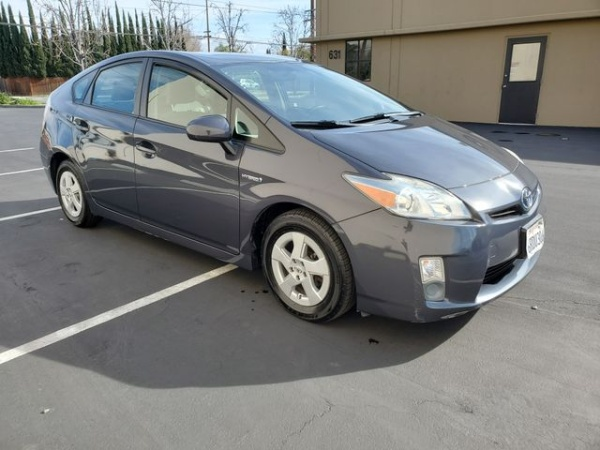Toyota Prius: (37, 48, 549, 328)
